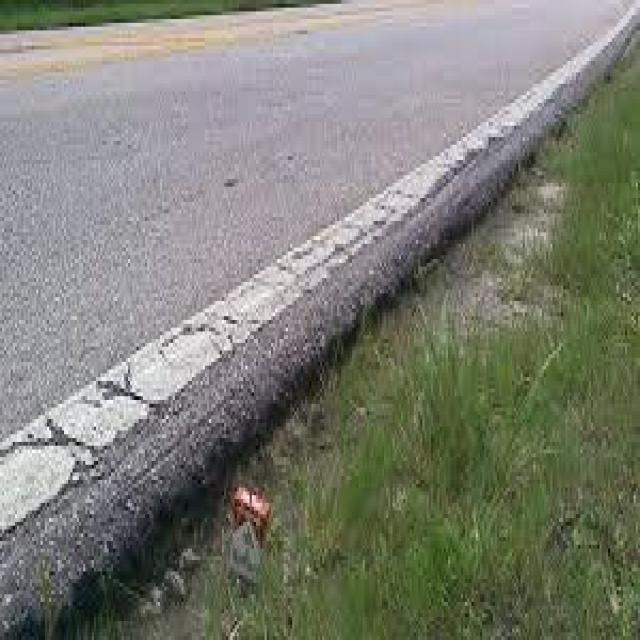curb: (137, 234, 346, 497), (1, 352, 157, 640), (368, 74, 556, 294), (581, 1, 634, 109)
